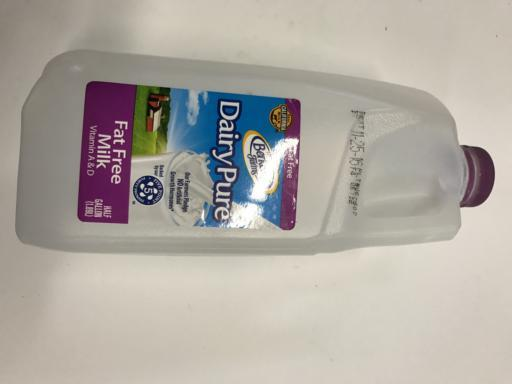plastic: (8, 44, 496, 259)
